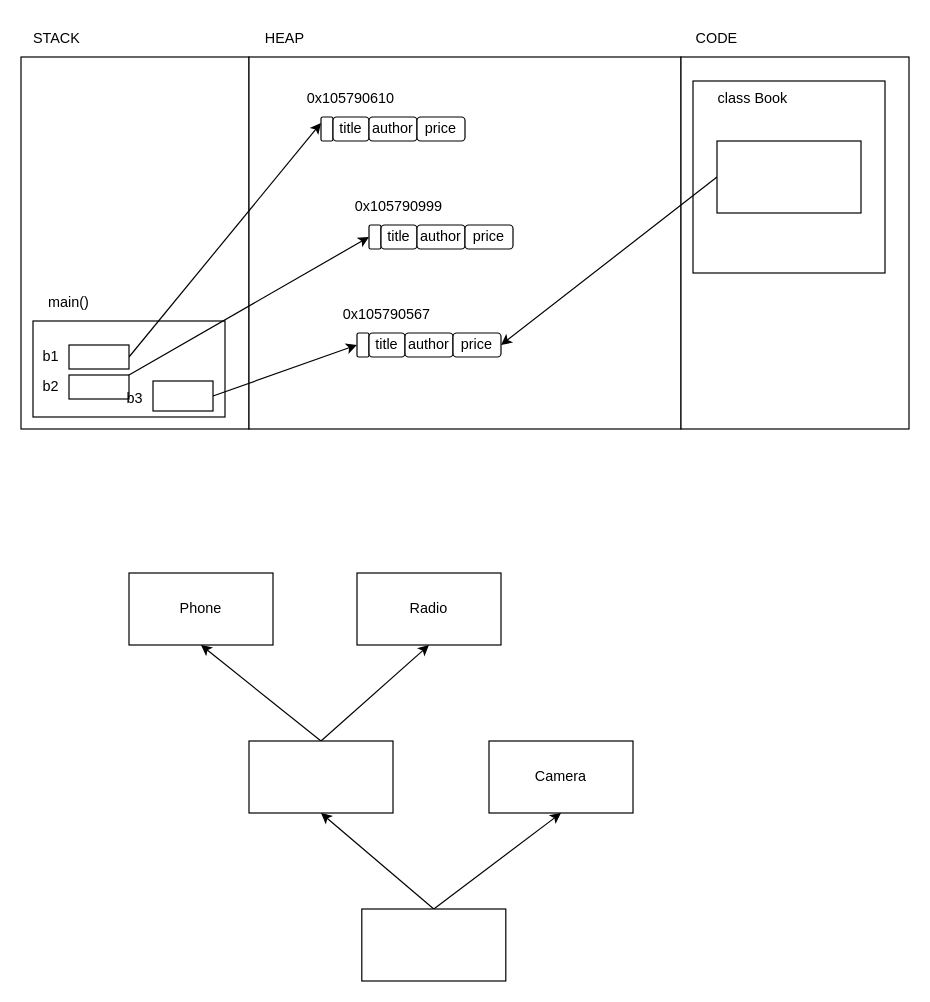
Image size: 930x1002. Some labels were removed from this diagram. The centre of each missing label's shape, as x and y in pixels:
"MobilePhone" belongs at (320,776).
"print(self)" belongs at (788,176).
"SmartPhone" belongs at (433,944).
